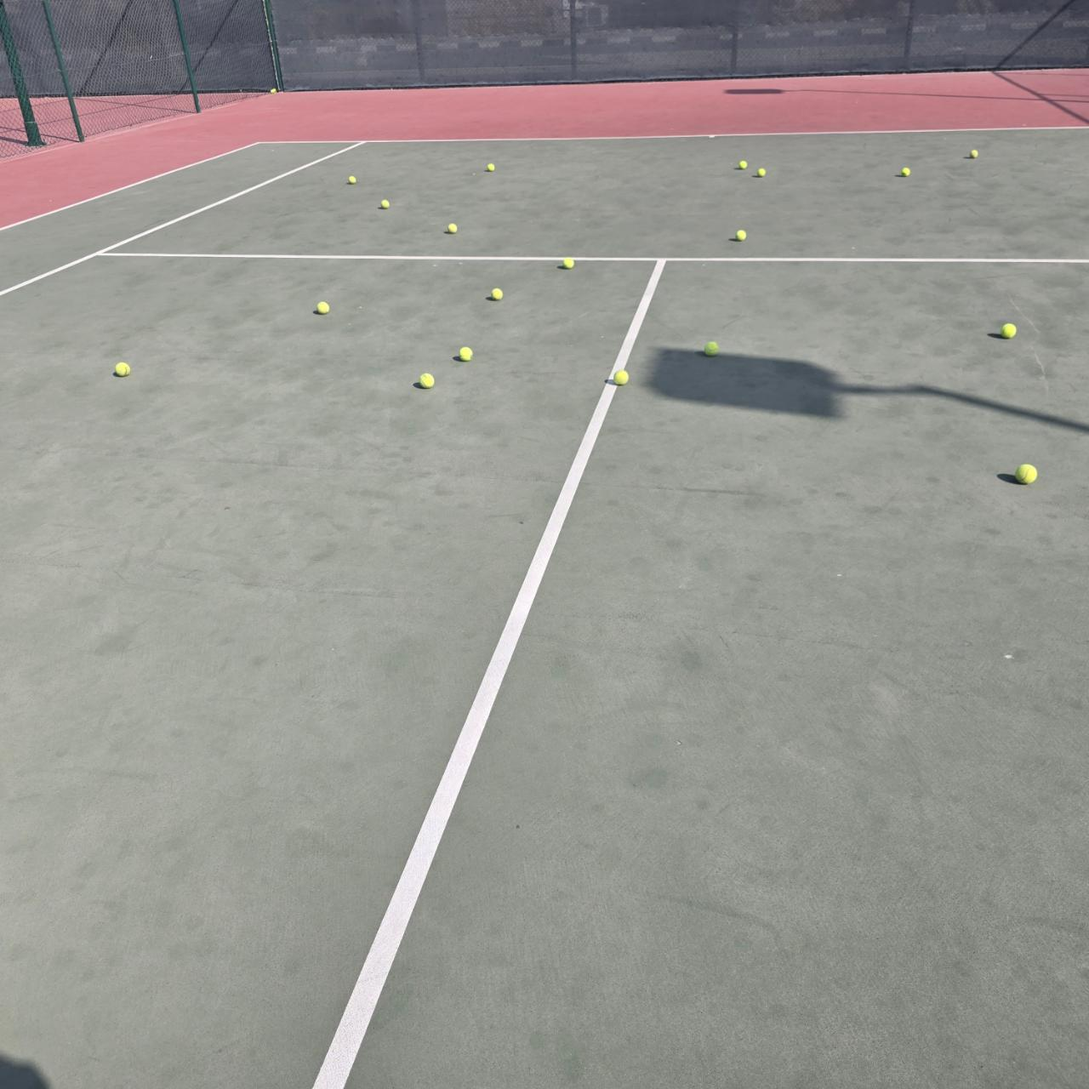tennis-ball: (1013, 460, 1038, 484), (112, 359, 129, 377), (1000, 320, 1017, 338), (611, 368, 629, 385), (418, 371, 434, 388), (457, 345, 473, 361), (703, 339, 718, 355), (561, 254, 574, 270), (316, 300, 329, 315), (734, 227, 746, 240), (490, 288, 503, 300), (447, 221, 457, 234), (901, 166, 912, 177), (381, 199, 390, 209), (970, 149, 979, 159), (738, 160, 747, 169), (487, 163, 495, 172), (349, 176, 356, 185), (758, 168, 765, 177), (270, 89, 276, 93)
